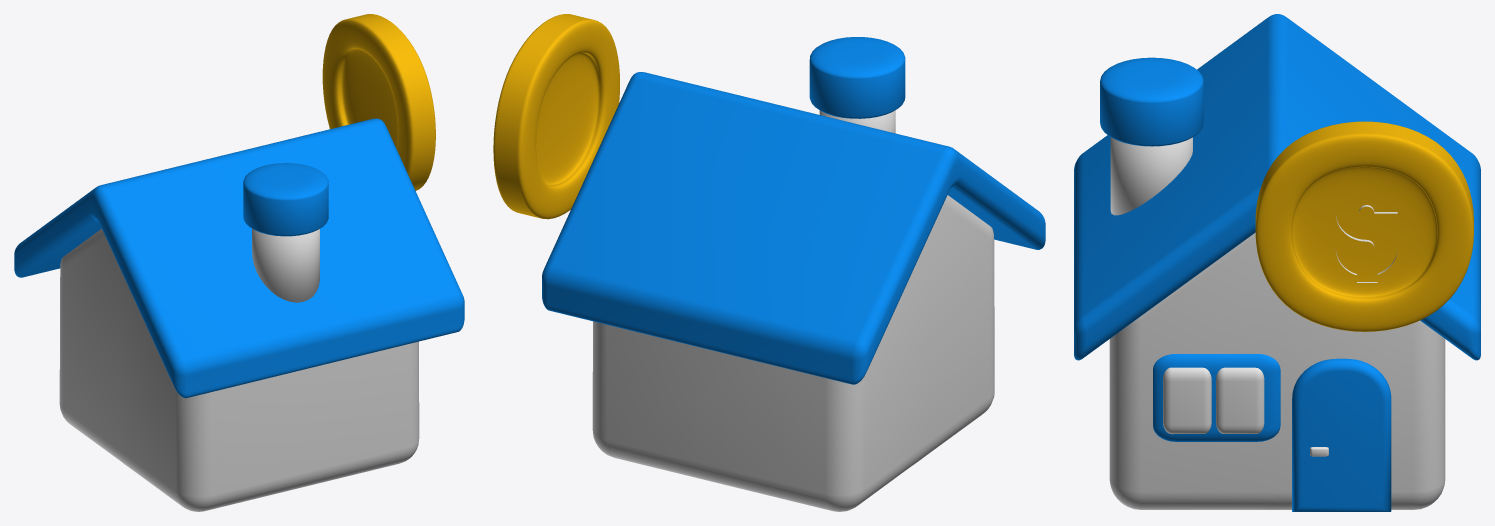
The model's file is home-loan-6507826-3.glb.
3 views of the same model, side by side, from view 1: azimuth 30°, elevation 25°; view 2: azimuth 150°, elevation 25°; view 3: azimuth 270°, elevation 25° (orthographic). The views are drawn at different scales.
Visible parts, largest first — view 1: Cube.004, Cube.003, Cube.002, Cylinder.007, Cylinder.006; view 2: Cube.004, Cube.003, Cube.002, Cylinder.007, Cylinder.006; view 3: Cube.004, Cube.003, Cube.002, Cube.008, Cylinder.007, Cube.007, Cylinder.006, Cube.005, Cube.006.
Boxes of the visible parts, <box> form: Cube.004: <box>14,118,464,398</box>; Cube.003: <box>59,228,419,511</box>; Cube.002: <box>322,14,435,190</box>; Cylinder.007: <box>243,163,328,236</box>; Cylinder.006: <box>252,228,319,302</box>; Cube.004: <box>542,72,1045,384</box>; Cube.003: <box>592,195,994,511</box>; Cube.002: <box>493,14,619,219</box>; Cylinder.007: <box>809,37,905,118</box>; Cylinder.006: <box>819,110,895,133</box>; Cube.004: <box>1074,14,1480,360</box>; Cube.003: <box>1109,232,1445,509</box>; Cube.002: <box>1255,121,1473,331</box>; Cube.008: <box>1292,358,1391,511</box>; Cylinder.007: <box>1100,57,1203,146</box>; Cube.007: <box>1153,354,1280,441</box>; Cylinder.006: <box>1110,137,1192,215</box>; Cube.005: <box>1163,367,1211,434</box>; Cube.006: <box>1216,367,1264,433</box>.
Bounding box in the file's own units: 7.02 × 7.03 × 6.09.
